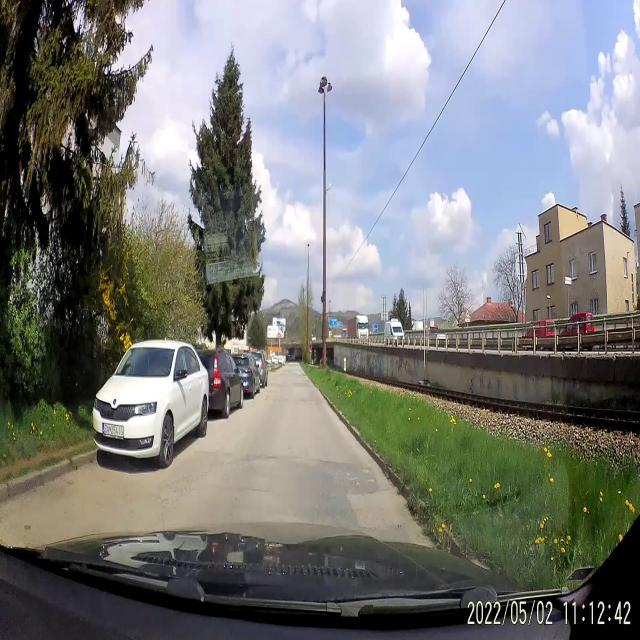Pothole: (337, 468, 362, 488), (265, 453, 278, 463), (367, 476, 377, 484), (360, 466, 372, 472), (366, 488, 374, 496)
